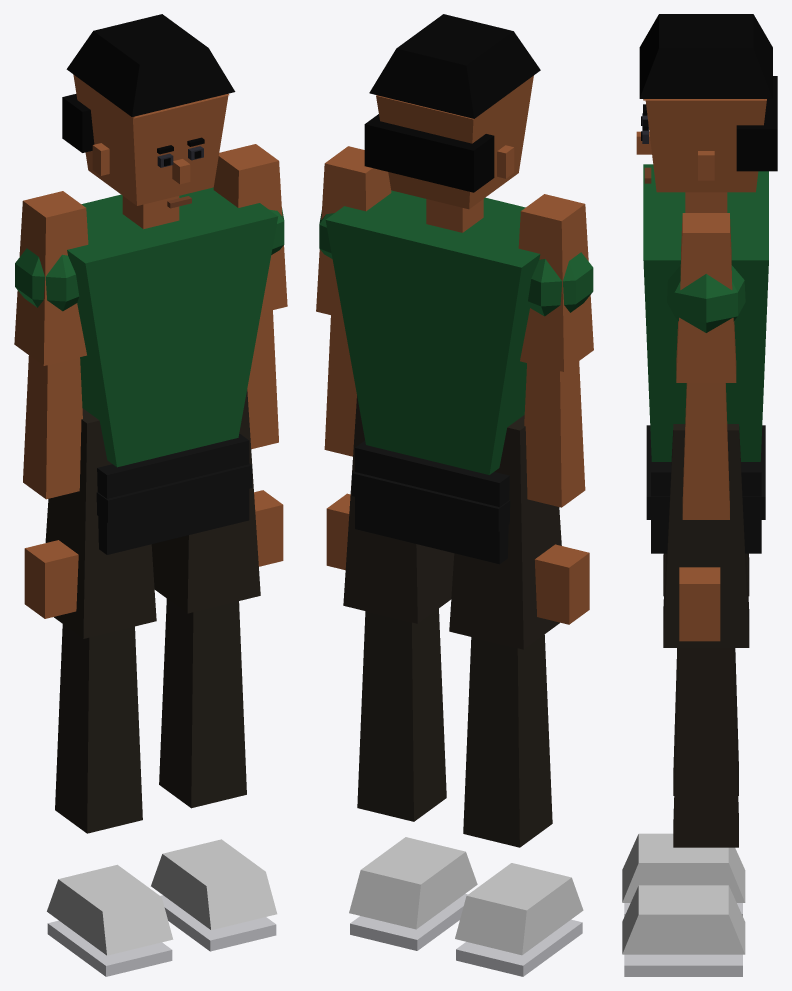
File: npc_psx_male_1.glb
The picture shows the model from 3 angles, left to right: view 1: azimuth 30°, elevation 25°; view 2: azimuth 150°, elevation 25°; view 3: azimuth 270°, elevation 25°; orthographic projection.
Visible parts, largest first — view 1: torso, head, lowerLegR, lowerLegL, hips, foreArmR, upperLegR, upperArmR, footR, footL, upperLegL, foreArmL (+1 smaller); view 2: torso, head, lowerLegR, lowerLegL, hips, upperLegR, foreArmR, upperArmR, footR, footL, upperLegL, foreArmL (+1 smaller); view 3: head, torso, lowerLegL, footL, upperArmL, upperLegL, foreArmL, footR, hips, lowerLegR.
Boxes of the visible parts, x1,y1,x2,y2 form: torso: [67, 187, 278, 467]; head: [62, 14, 235, 208]; lowerLegR: [55, 624, 142, 833]; lowerLegL: [159, 598, 246, 808]; hips: [96, 433, 252, 554]; foreArmR: [23, 355, 82, 618]; upperLegR: [45, 408, 156, 638]; upperArmR: [14, 191, 88, 365]; footR: [47, 864, 173, 976]; footL: [151, 839, 277, 951]; upperLegL: [151, 389, 260, 613]; foreArmL: [247, 310, 283, 566]; torso: [325, 190, 540, 474]; head: [364, 14, 540, 209]; lowerLegR: [463, 634, 552, 847]; lowerLegL: [357, 608, 446, 821]; hips: [352, 440, 510, 564]; upperLegR: [449, 415, 561, 649]; foreArmR: [524, 361, 589, 624]; upperArmR: [518, 194, 593, 371]; footR: [455, 863, 583, 976]; footL: [349, 837, 477, 950]; upperLegL: [343, 396, 454, 623]; foreArmL: [324, 315, 356, 570]; head: [636, 14, 777, 192]; torso: [643, 164, 768, 461]; lowerLegL: [673, 648, 738, 847]; footL: [622, 885, 745, 976]; upperArmL: [667, 213, 745, 382]; upperLegL: [663, 424, 749, 647]; foreArmL: [679, 383, 729, 641]; footR: [622, 833, 745, 916]; hips: [646, 425, 765, 553]; lowerLegR: [673, 648, 738, 795].
Bounding box in the file's own units: 0.5415 × 1.78 × 0.2772.
